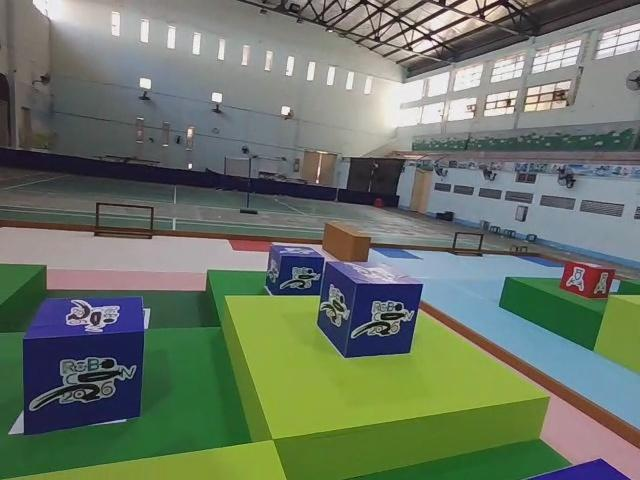R1 Blue: (21, 296, 145, 436), (316, 263, 423, 361), (265, 245, 325, 297)
